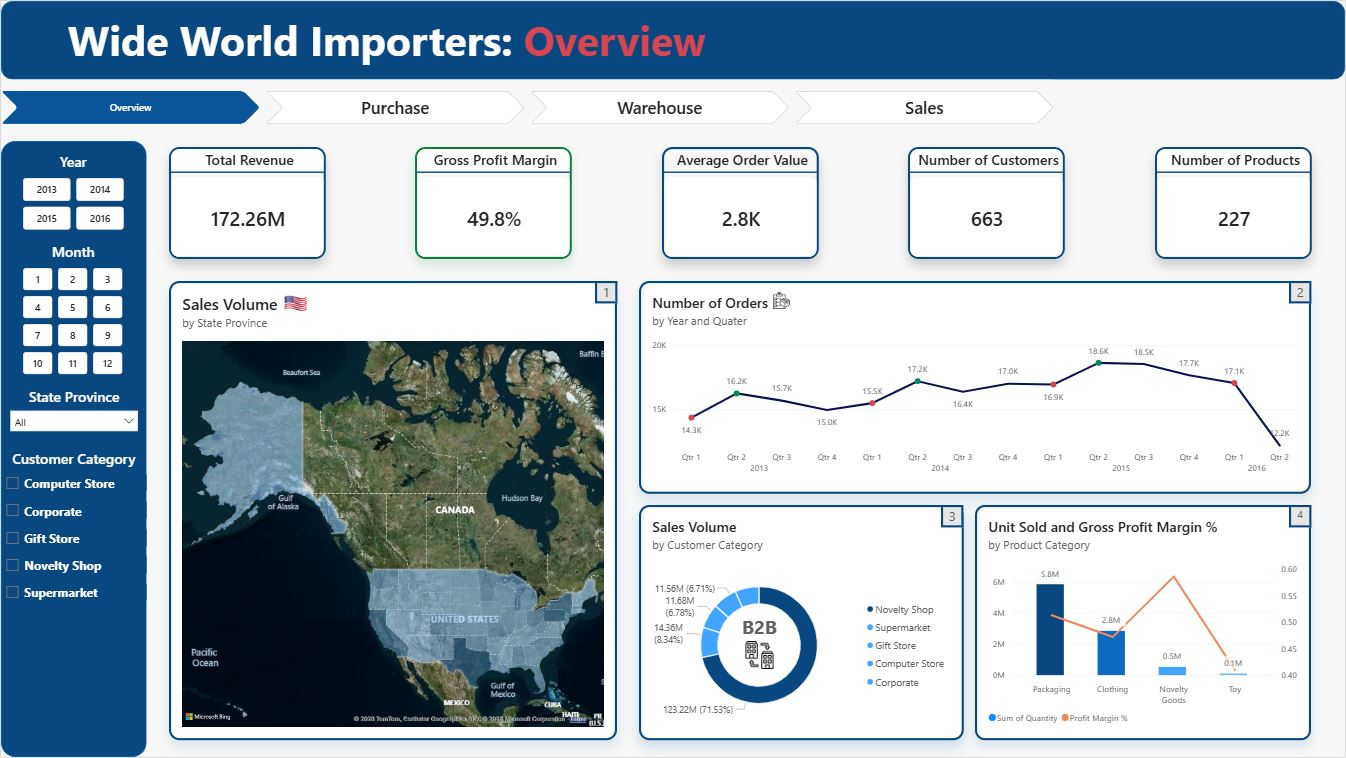

The page's visual inventory and layout, read from the dashboard file:
{"tool":"powerbi","page":{"name":"Overview","canvas":[1920,1080],"ordinal":0},"visuals":[{"type":"shape","box":[0,200,208,880],"z":0},{"type":"cardVisual","title":"Total Revenue","fields":{"Data":["Sum(FactSalesInvoices.Sales)"]},"box":[240,208,224,160],"z":1000},{"type":"cardVisual","title":"Gross Profit Margin","fields":{"Data":["*Measure.Gross Profit Margin %"]},"box":[592,208,224,160],"z":2000},{"type":"cardVisual","title":"Number of Customers","fields":{"Data":["Count(FactSalesInvoices.CustomerID)"]},"box":[1296,208,224,160],"z":3000},{"type":"filledMap","title":"Sales Volume","fields":{"Category":["Application StateProvinces.StateProvinceName"]},"box":[240,400,640,656],"z":3000,"group":"g1"},{"type":"advancedSlicerVisual","title":"Year","fields":{"Values":["Calendar.Date.Variation.Date Hierarchy.Year"]},"box":[32,216,144,112],"z":4000},{"type":"advancedSlicerVisual","title":"Month","fields":{"Values":["Calendar.MonthNo"]},"box":[32,344,144,192],"z":5000},{"type":"pageNavigator","box":[0,128,1504,48],"z":6000},{"type":"cardVisual","title":"Number of Products","fields":{"Data":["Count(FactSalesInvoices.StockItemID)"]},"box":[1648,208,224,160],"z":7000},{"type":"cardVisual","title":"Average Order Value","fields":{"Data":["*Measure.AOV"]},"box":[944,208,224,160],"z":8000},{"type":"donutChart","title":"Sales Volume","fields":{"Category":["Sales CustomerCategories.CustomerCategoryName"],"Y":["Sum(FactSalesInvoices.Sales)"]},"box":[912,720,464,336],"z":8000,"group":"g4"},{"type":"shape","box":[0,0,1920,112],"z":9000},{"type":"textbox","box":[96,16,960,96],"z":10000},{"type":"lineChart","title":"Number of Orders","fields":{"Category":["Calendar.Date.Variation.Date Hierarchy.Year","Calendar.Date.Variation.Date Hierarchy.Quarter","Calendar.Date.Variation.Date Hierarchy.Month"],"Y":["CountNonNull(FactSalesOrders.OrderID)"]},"box":[912,400,960,304],"z":11000,"group":"g2"},{"type":"slicer","title":"State Province","fields":{"Values":["Application StateProvinces.StateProvinceName"]},"box":[8,552,192,64],"z":11000},{"type":"slicer","title":"Customer Category","fields":{"Values":["Sales CustomerCategories.CustomerCategoryName"]},"box":[0,640,208,224],"z":12000},{"type":"lineStackedColumnComboChart","title":"Unit Sold and Gross Profit Margin %","fields":{"Category":["Purchasing SupplierCategories.ProductCategoryName"],"Y":["Sum(FactSalesOrders.Quantity)"],"Y2":["*Measure.Profit Margin %"]},"box":[1392,720,480,336],"z":12000,"group":"g3"},{"type":"group","id":"g1","title":"Group 1","box":[240,400,640,656],"z":13000},{"type":"textbox","box":[1058.8,876.2,57.5,47.5],"z":13000,"group":"g4"},{"type":"group","id":"g2","title":"Group 2","box":[912,400,960,304],"z":14000},{"type":"group","id":"g3","title":"Group 3","box":[1392,720,480,336],"z":15000},{"type":"image","box":[392.2,415.6,55.6,32.2],"z":16000,"group":"g1"},{"type":"group","id":"g4","title":"Group 4","box":[912,720,464,336],"z":16000},{"type":"image","box":[1104,416,24,24],"z":17000,"group":"g2"},{"type":"image","box":[1059.2,914.2,50.8,40],"z":18000,"group":"g4"},{"type":"textbox","box":[848,400,32,32],"z":21001,"group":"g1"},{"type":"textbox","box":[1840,400,32,32],"z":21002,"group":"g2"},{"type":"textbox","box":[1344,720,32,32],"z":21003,"group":"g4"},{"type":"textbox","box":[1840,720,32,32],"z":21004,"group":"g3"}]}

Visuals, with their boxes in screenshot pixels (x1, y1, x2, y2), scaled from the page's 1920x1080 canvas onto the 1346x758 screenshot:
shape: bbox(0, 140, 146, 757)
"Total Revenue" cardVisual: bbox(168, 146, 325, 258)
"Gross Profit Margin" cardVisual: bbox(415, 146, 572, 258)
"Number of Customers" cardVisual: bbox(909, 146, 1066, 258)
"Sales Volume" filledMap: bbox(168, 281, 617, 741)
"Year" advancedSlicerVisual: bbox(22, 152, 123, 230)
"Month" advancedSlicerVisual: bbox(22, 241, 123, 376)
pageNavigator: bbox(0, 90, 1054, 124)
"Number of Products" cardVisual: bbox(1155, 146, 1312, 258)
"Average Order Value" cardVisual: bbox(662, 146, 819, 258)
"Sales Volume" donutChart: bbox(639, 505, 965, 741)
shape: bbox(0, 0, 1345, 79)
textbox: bbox(67, 11, 740, 79)
"Number of Orders" lineChart: bbox(639, 281, 1312, 494)
"State Province" slicer: bbox(6, 387, 140, 432)
"Customer Category" slicer: bbox(0, 449, 146, 606)
"Unit Sold and Gross Profit Margin %" lineStackedColumnComboChart: bbox(976, 505, 1312, 741)
"Group 1" group: bbox(168, 281, 617, 741)
textbox: bbox(742, 615, 783, 648)
"Group 2" group: bbox(639, 281, 1312, 494)
"Group 3" group: bbox(976, 505, 1312, 741)
image: bbox(275, 292, 314, 314)
"Group 4" group: bbox(639, 505, 965, 741)
image: bbox(774, 292, 791, 309)
image: bbox(743, 642, 778, 670)
textbox: bbox(594, 281, 617, 303)
textbox: bbox(1290, 281, 1312, 303)
textbox: bbox(942, 505, 965, 528)
textbox: bbox(1290, 505, 1312, 528)
